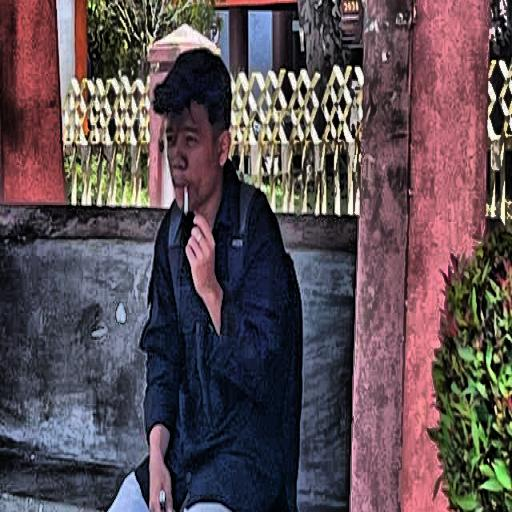Merokok: (182, 185, 188, 213)
Rokok: (154, 50, 230, 330)
